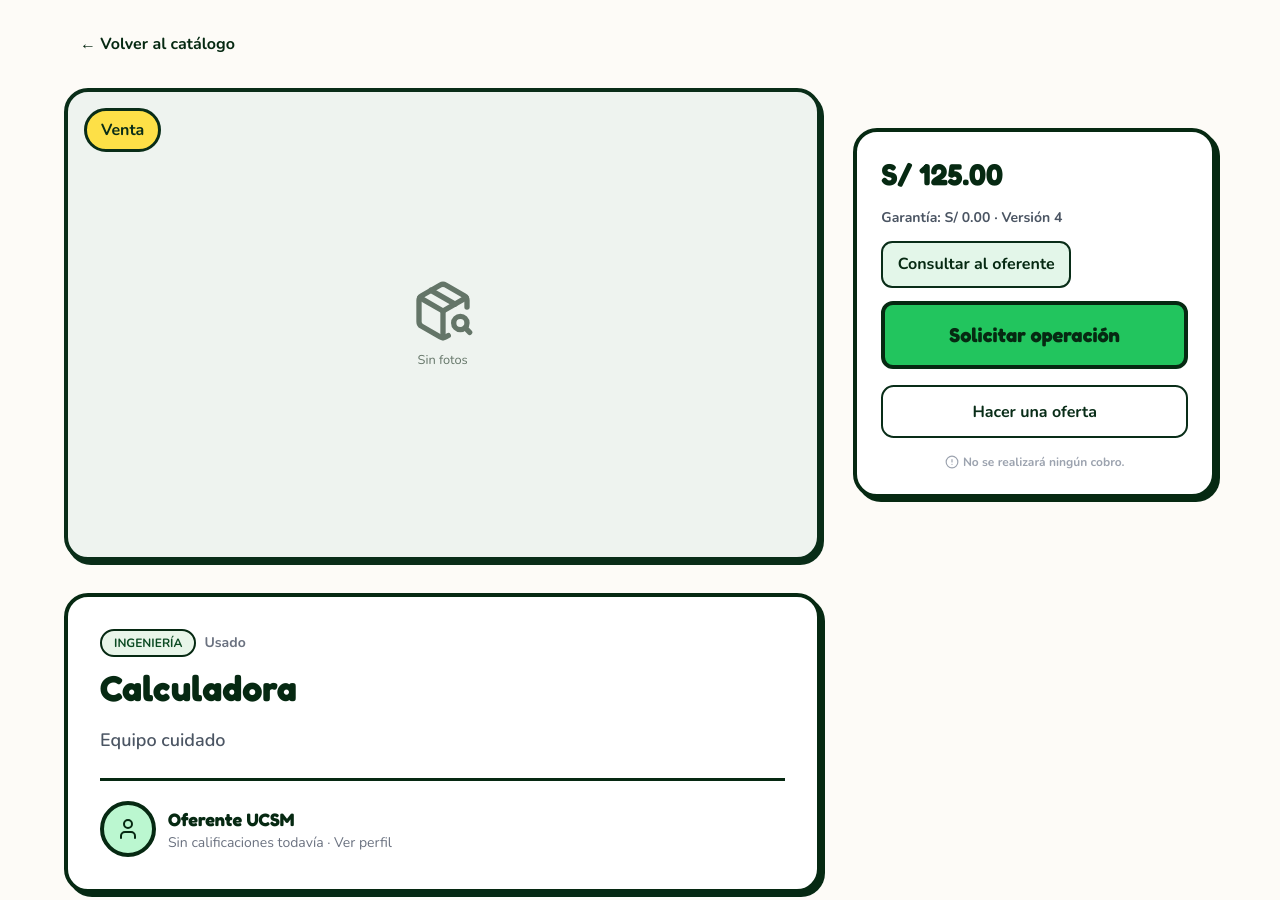
it: submits an offer separately from the confirmed listing price
Expected: the heading "Calculadora" is shown, [100,666,297,709]
Click the button "Hacer una oferta": (1035, 412) [881,385,1188,438]
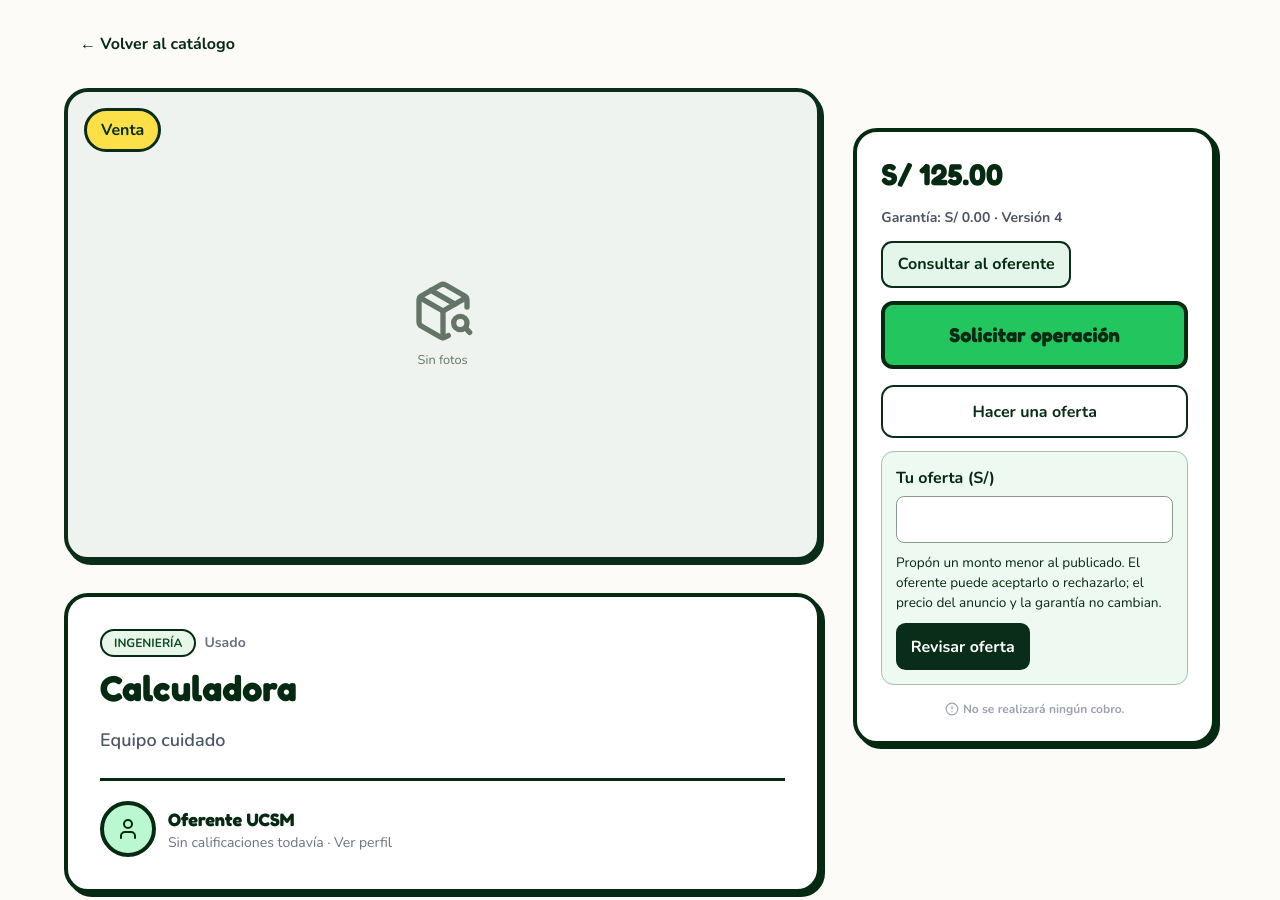
In the number field labelled "Tu oferta (S/)": (1035, 520) [896,496,1173,543], type "100"
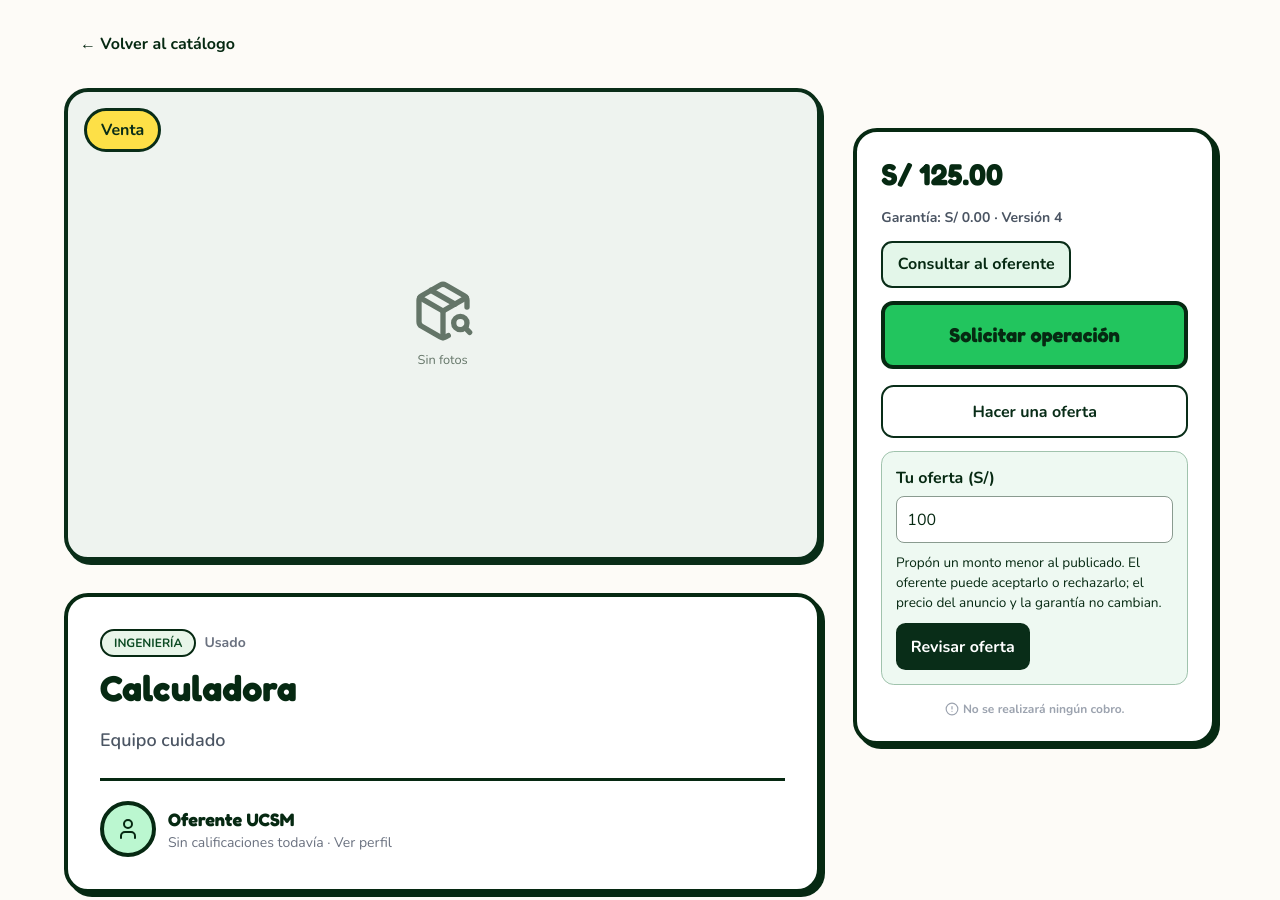
Click the button "Revisar oferta": (963, 647) [896,623,1030,670]
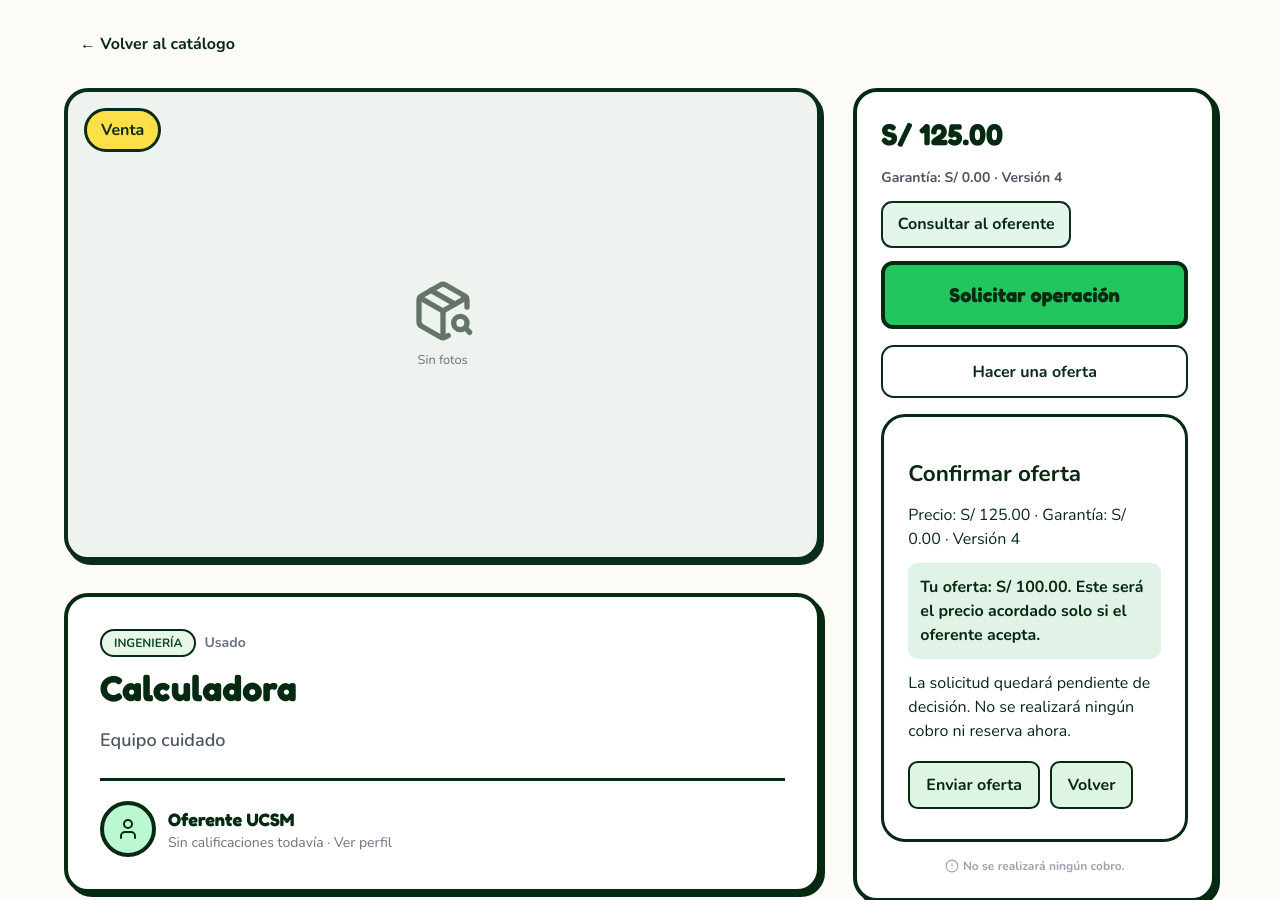
Result: the dialog shows "Tu oferta: S/ 100.00" at [881,414,1188,842]
Result: the dialog shows "S/ 125.00" at [881,414,1188,842]
Click the button "Enviar oferta": (974, 785) [908,761,1040,809]
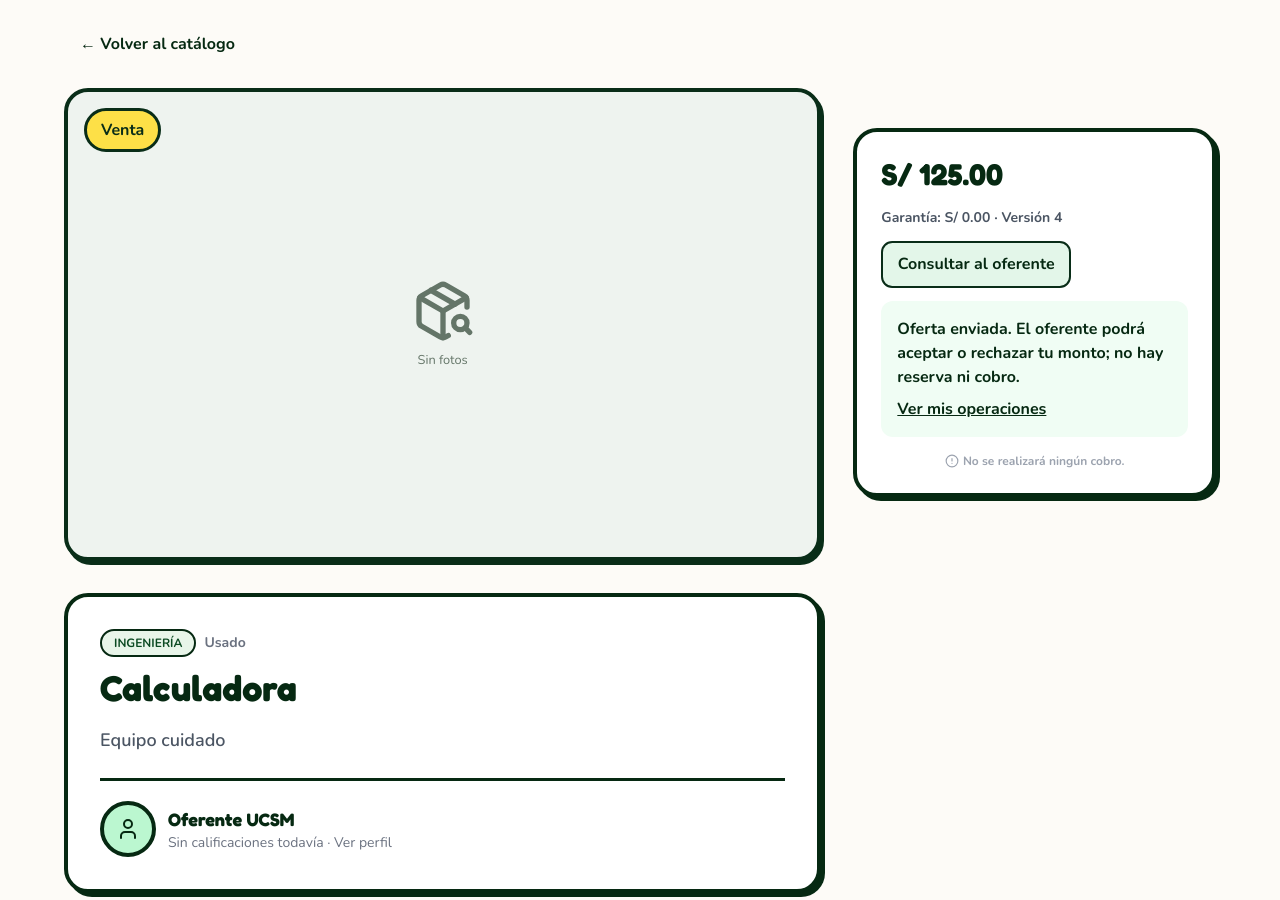
Result: the text "Oferta enviada" is shown at [897,318,1163,388]
